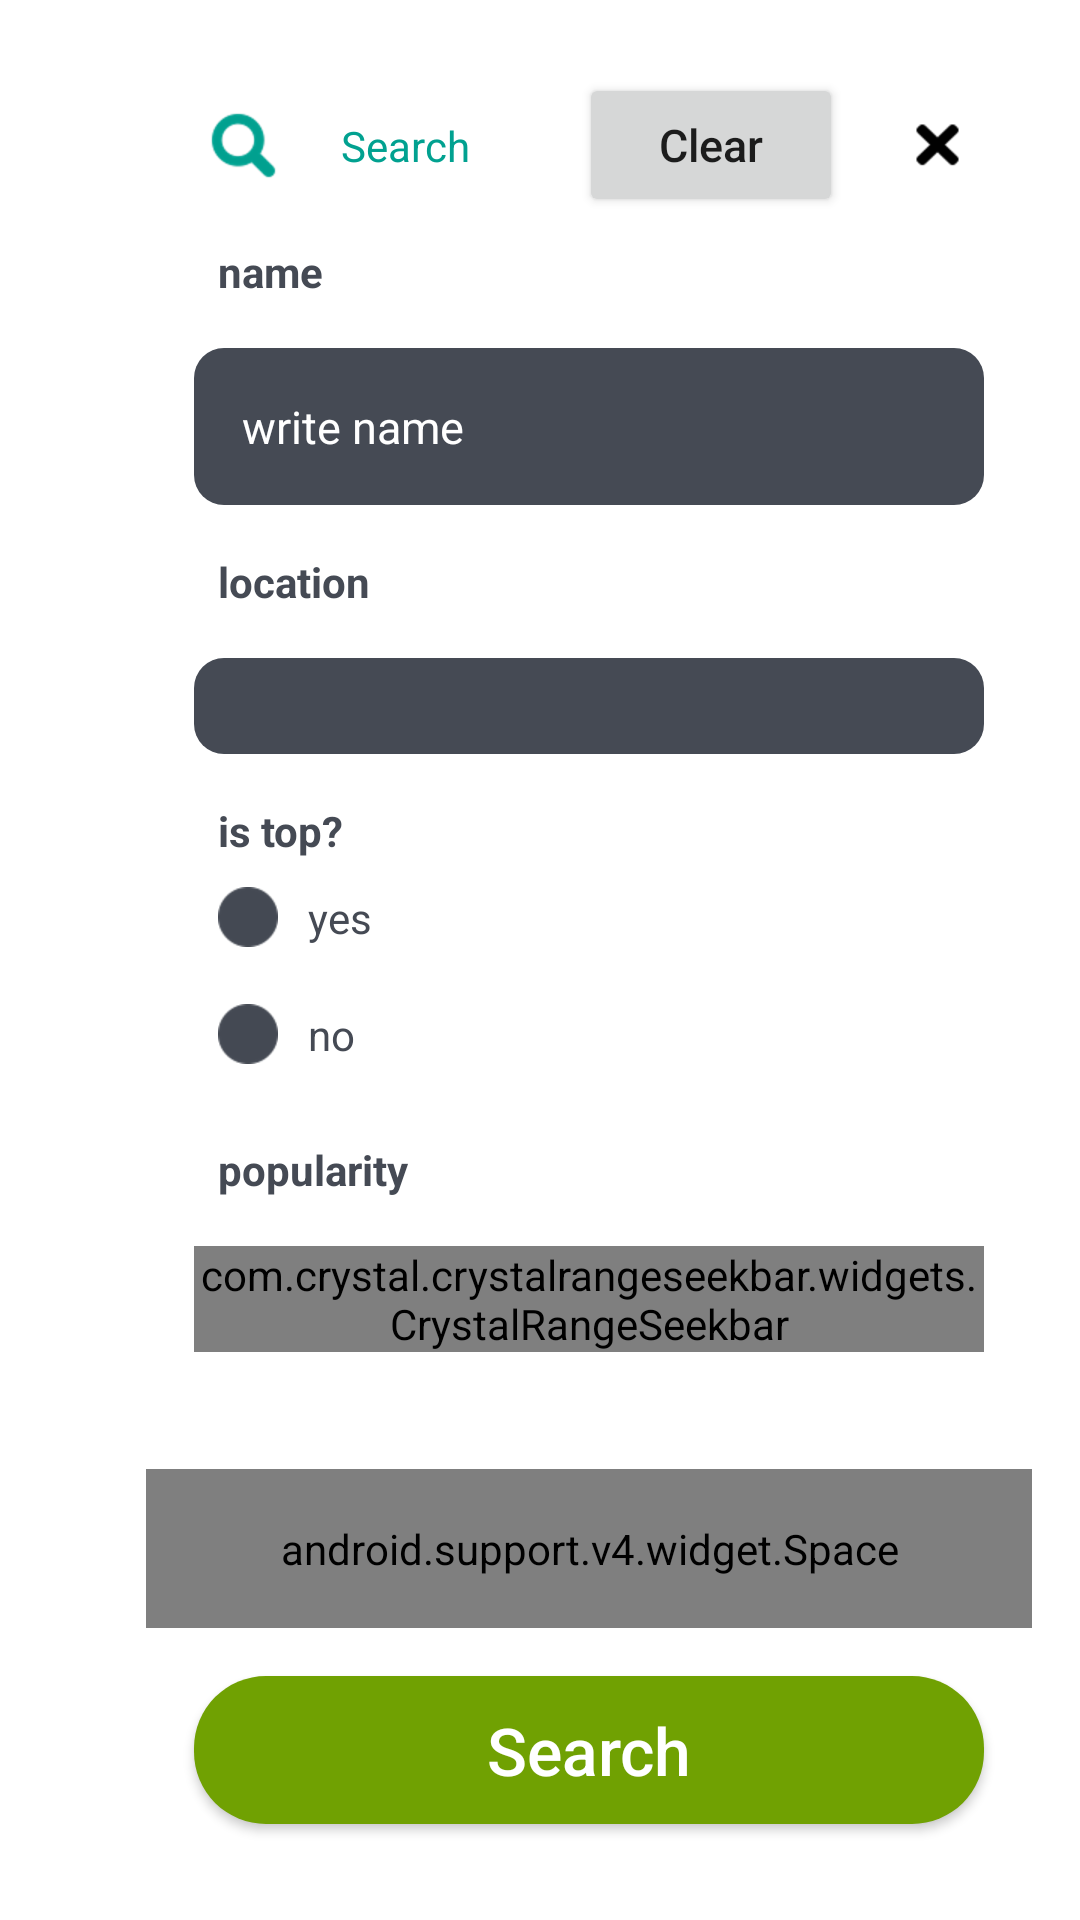

Icons on this 1080px×1920px Android screen, each with its box as box=[x1, y1, x2, y2]:
mglass: box=[211, 113, 276, 178]
